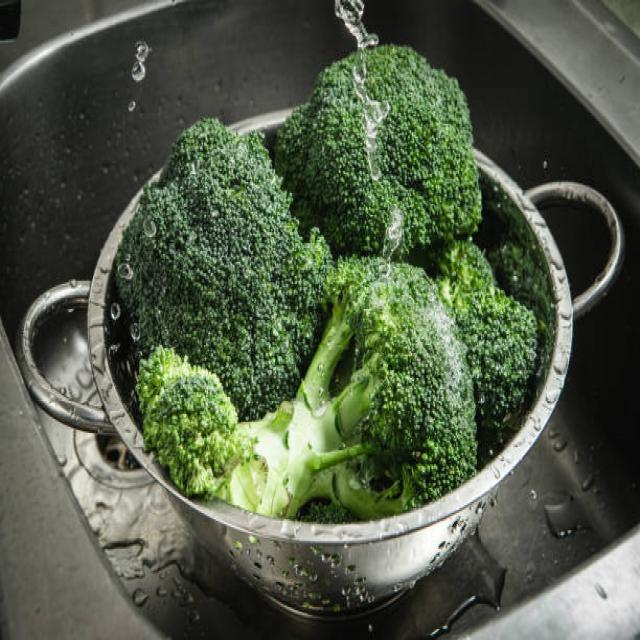Broccoli head: (304, 15, 505, 236), (124, 115, 306, 347), (322, 274, 469, 510), (135, 346, 272, 496)
